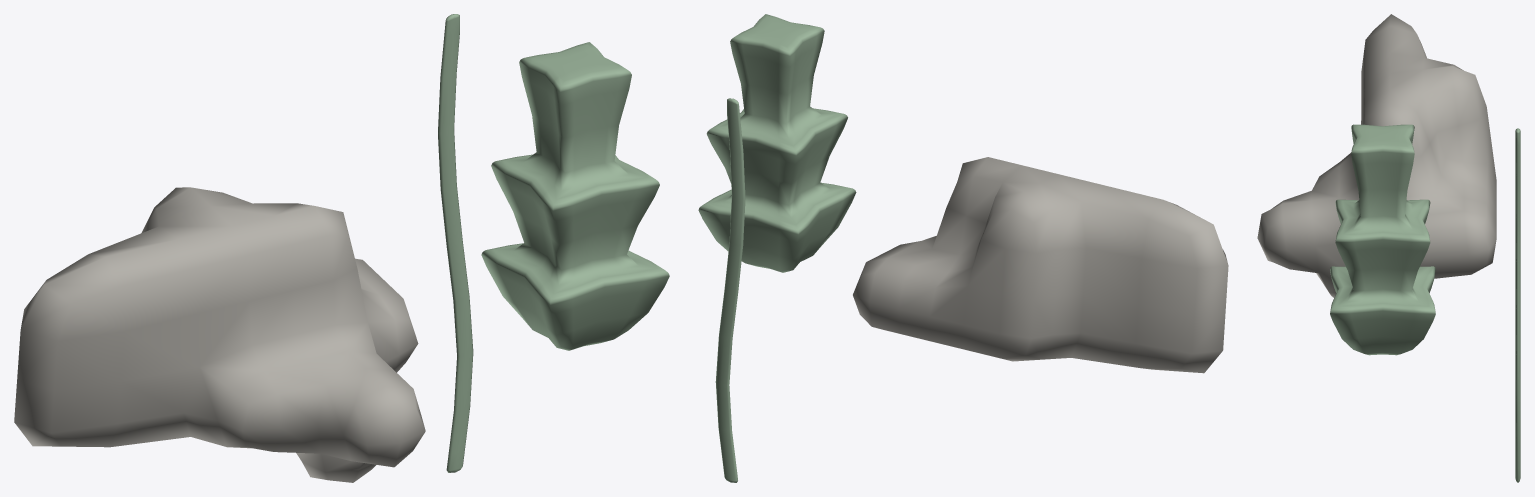
Rendered from WaterStuff.fbx.
3 renders of one model, left to right at view 1: azimuth 30°, elevation 25°; view 2: azimuth 150°, elevation 25°; view 3: azimuth 270°, elevation 25°, orthographic. The views are drawn at different scales.
Visible parts, largest first — view 1: pCube13, pCube15, pCube14; view 2: pCube13, pCube15, pCube14; view 3: pCube13, pCube15, pCube14.
Part boxes in pixels (x1=…): pCube13: x1=14, y1=187, x2=425, y2=482; pCube15: x1=481, y1=42, x2=669, y2=350; pCube14: x1=438, y1=14, x2=473, y2=472; pCube13: x1=853, y1=157, x2=1228, y2=373; pCube15: x1=698, y1=14, x2=856, y2=272; pCube14: x1=715, y1=98, x2=745, y2=482; pCube13: x1=1257, y1=14, x2=1496, y2=297; pCube15: x1=1330, y1=124, x2=1435, y2=355; pCube14: x1=1515, y1=128, x2=1520, y2=482.
Size of the model in its own units: 7.76 by 5.7 by 3.79.
